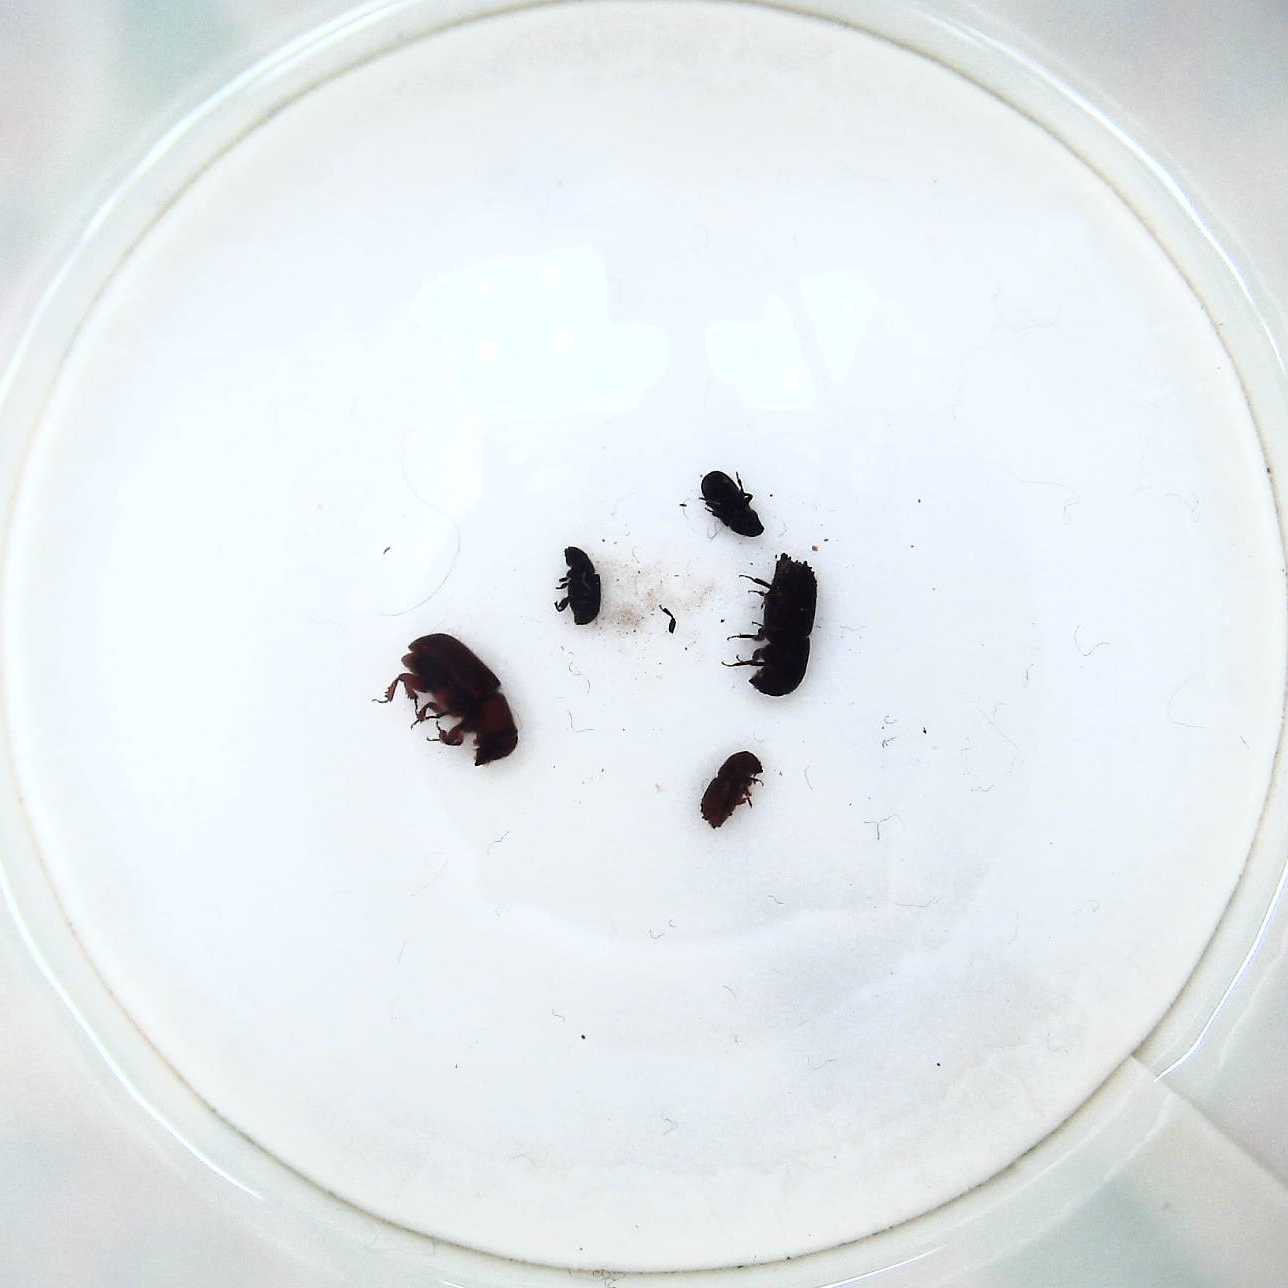Boerner: (731, 551, 824, 704)
Leconte: (377, 631, 521, 770)
armandi: (550, 543, 611, 631)
coleoptera: (702, 468, 763, 541)
linnaeus: (697, 745, 775, 832)
